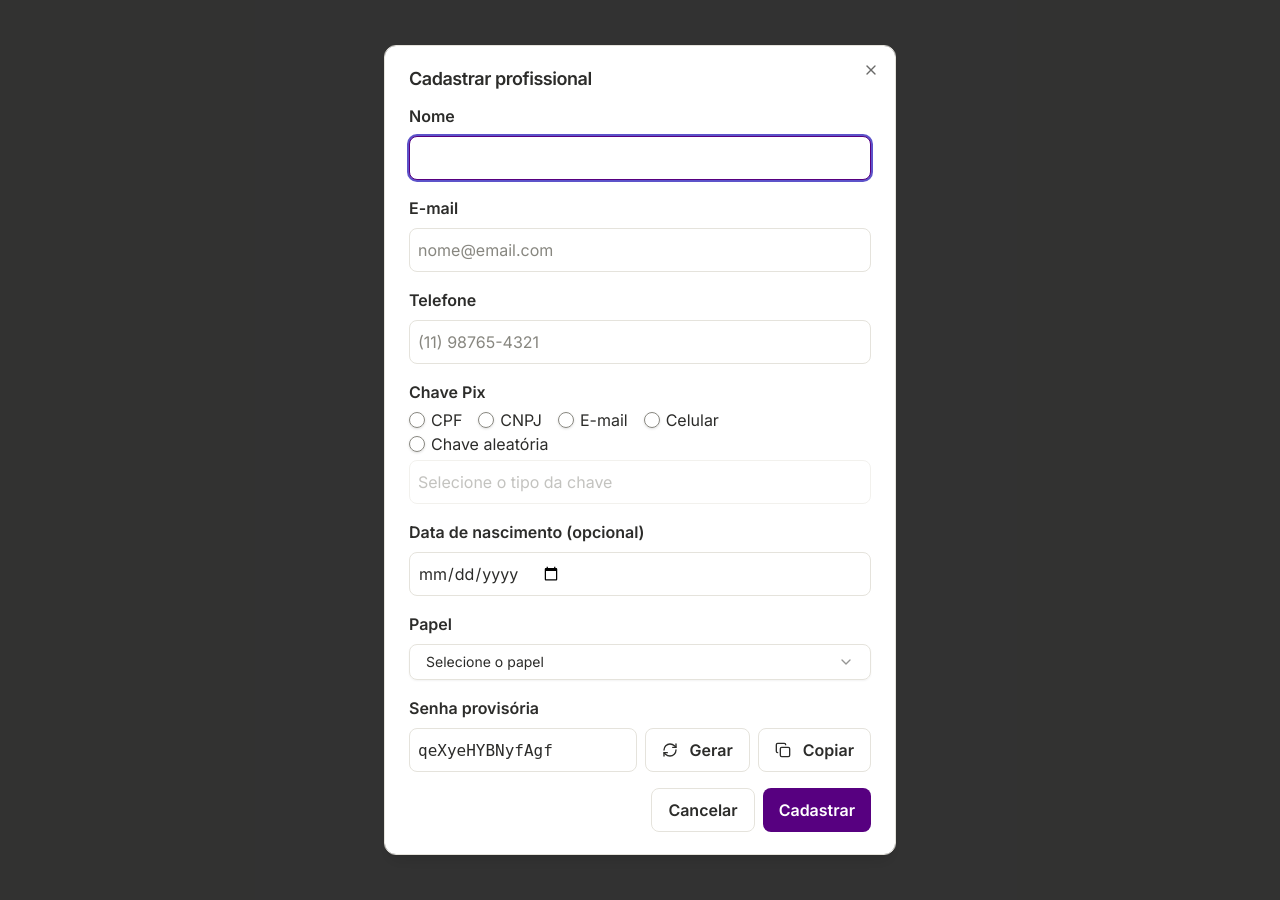
Test case: CreateMemberDialog › MANAGER does not see the ADMIN role option
Click the dropdown labelled "papel": (485, 662) [409,644,871,680]
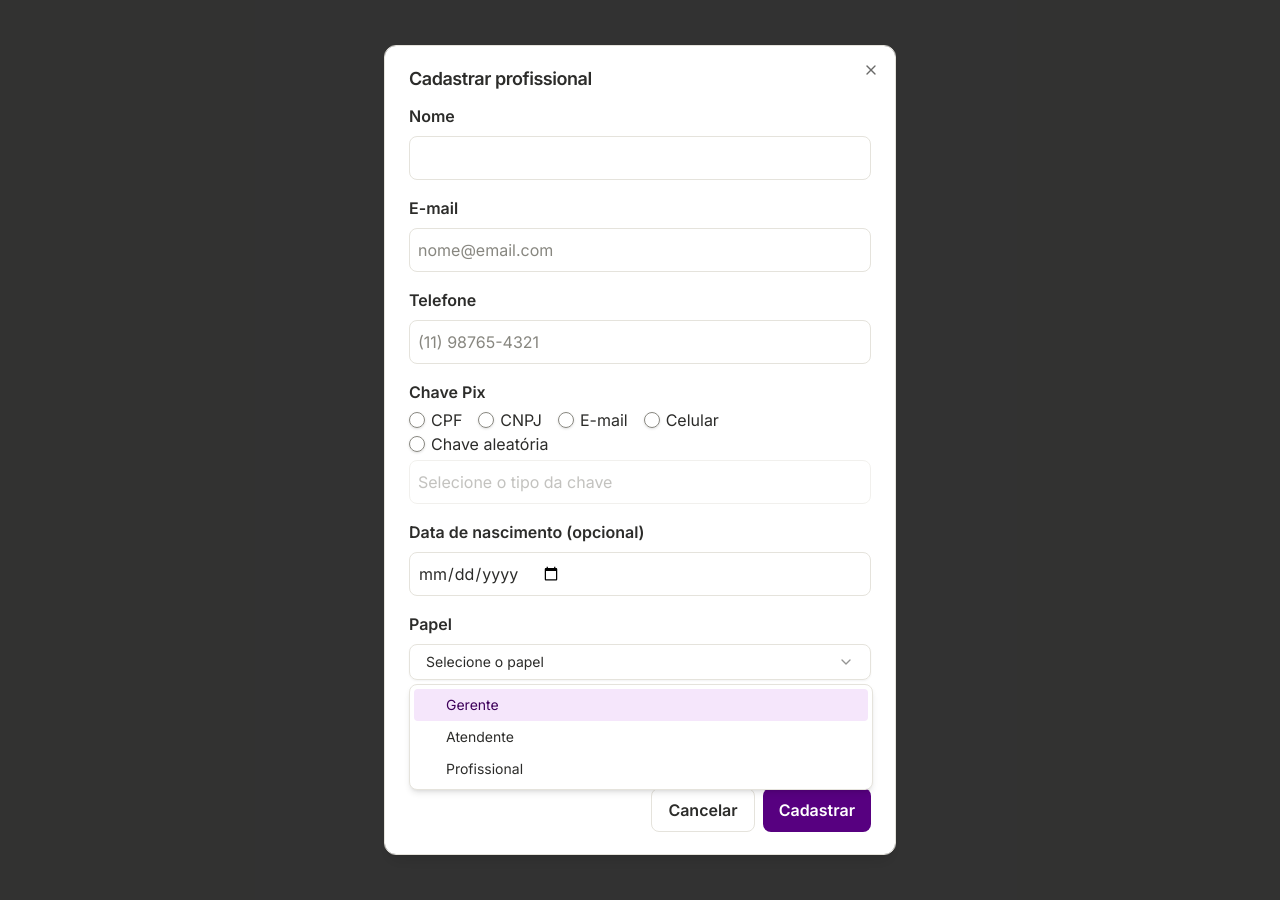
Check: the option "Gerente" is shown, box [414,689,868,721]
